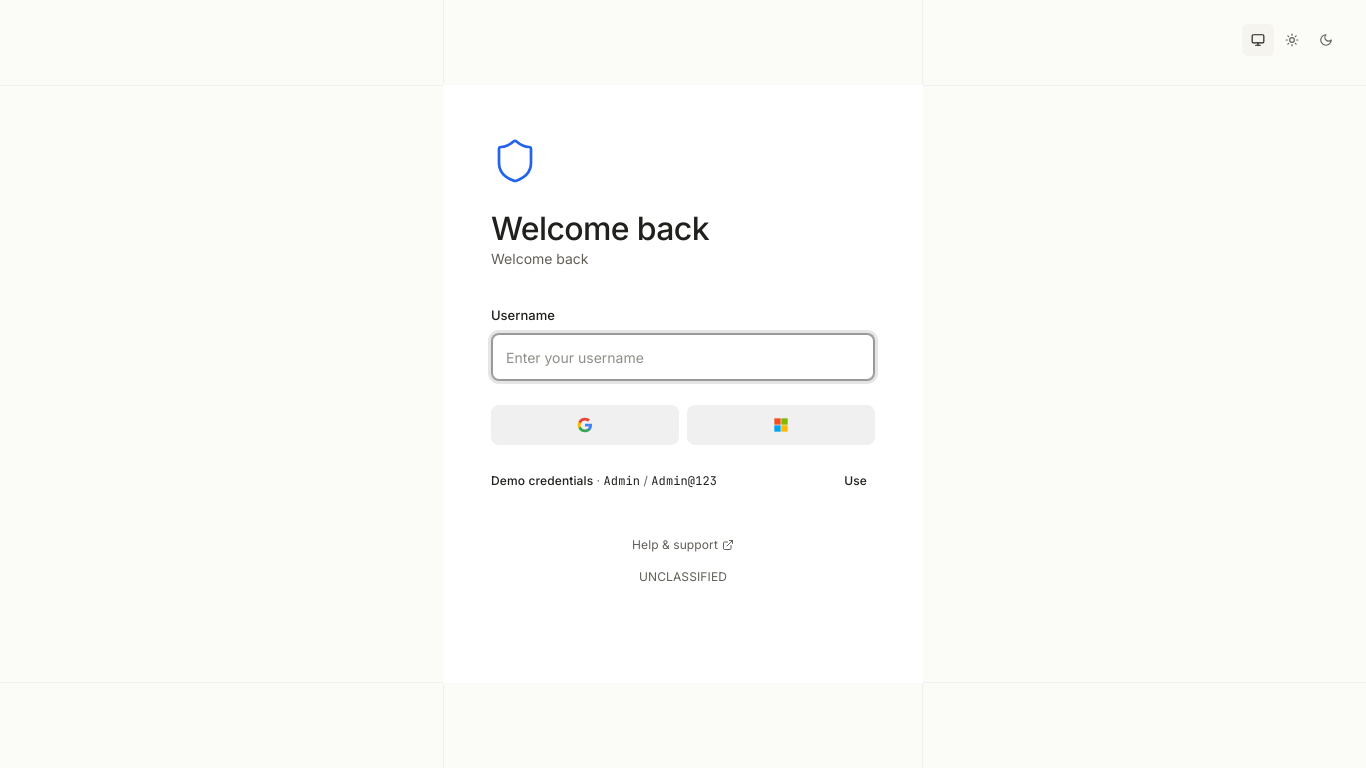
Login — four-mode render › shows the seeded-default credential hint when seeded_default is set
Expected: the field labelled "Username" is shown, [491,333,875,381]
Expected: the text "Demo credentials" is shown, [491,473,593,488]
Click the button with aria-label "Use demo credentials" at (856, 481), box [836,465,875,497]
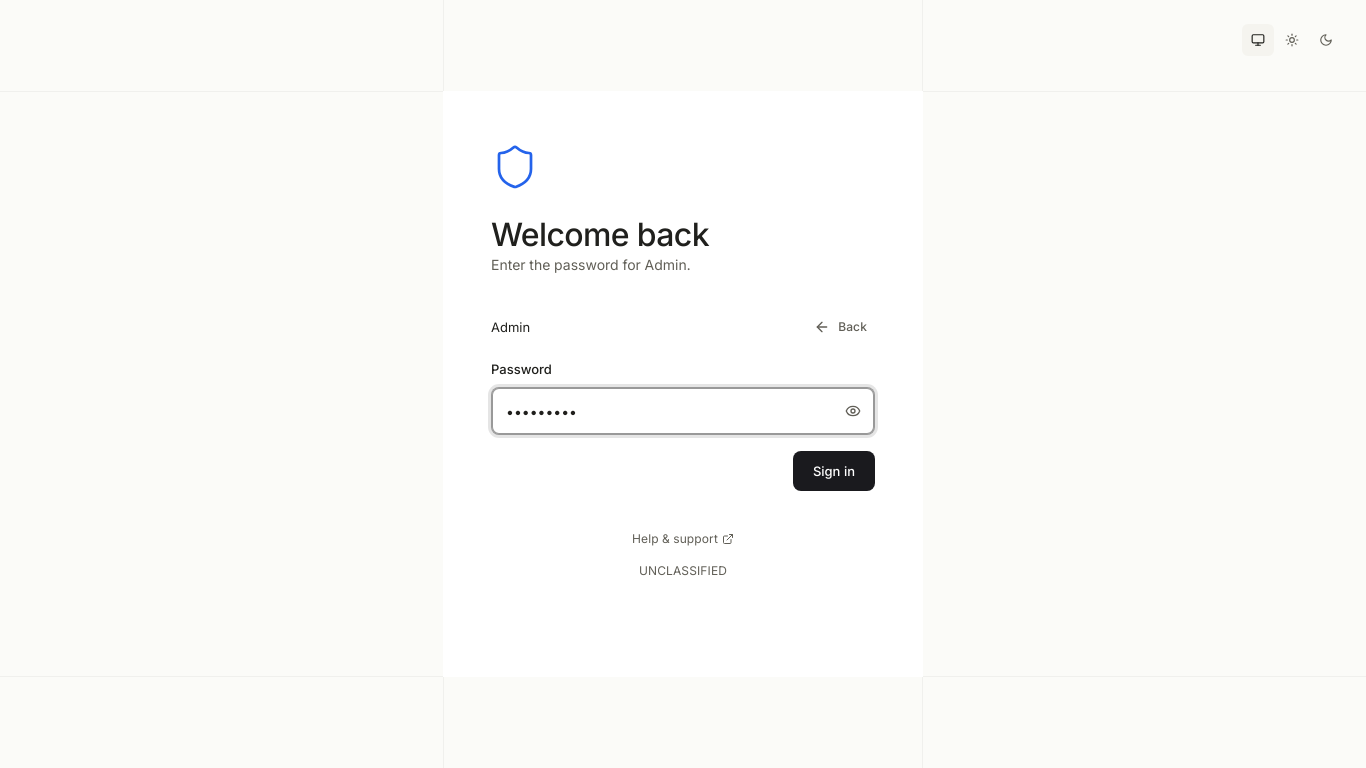
Now the label labelled "Username" is gone
Now the password field labelled "Password" holds "Admin@123", box [491,387,875,435]
Now the button "Sign in" is enabled, box [793,451,875,491]
